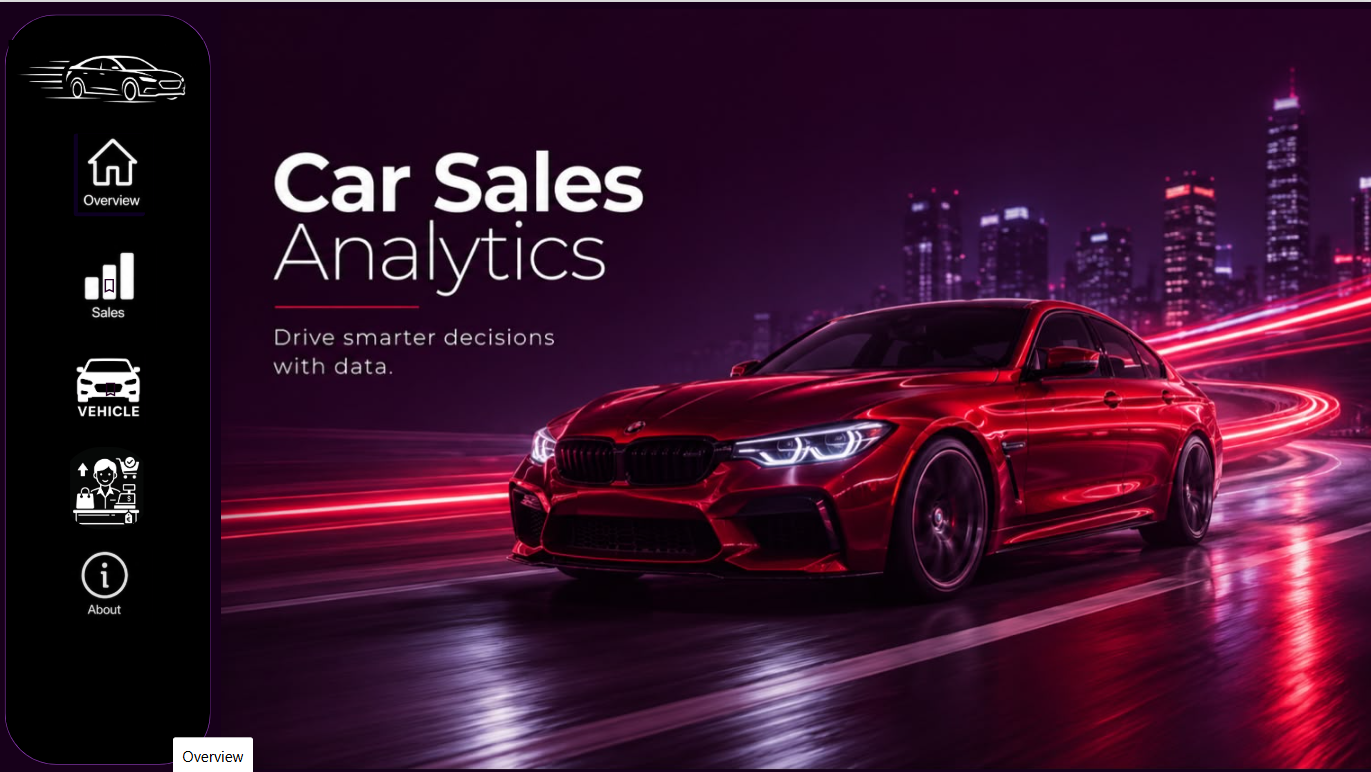

The dashboard page shown, as its layout file describes it:
{"tool":"powerbi","page":{"name":"Overview","canvas":[1920,1080],"ordinal":0},"visuals":[{"type":"image","box":[314,0,1607,1080.4],"z":0},{"type":"actionButton","box":[94.1,347.5,110.4,112.2],"z":1000},{"type":"shape","box":[12.8,17,287.2,1046.8],"z":2000},{"type":"actionButton","box":[108,184,100,116],"z":3000},{"type":"actionButton","box":[104,182,112.7,112.7],"z":4000},{"type":"image","box":[18,40,272,126],"z":5000},{"type":"image","box":[104,184,126,110],"z":7000},{"type":"image","box":[94,336,130,124],"z":8000},{"type":"actionButton","box":[108.3,331.2,100,128.3],"z":9000},{"type":"actionButton","box":[104.2,187.5,112.7,112.7],"z":10000},{"type":"image","box":[72.3,491.5,170.2,97.9],"z":11000},{"type":"actionButton","box":[110.6,476.6,100,128.3],"z":12000},{"type":"image","box":[82.7,763.5,148,104],"z":12001},{"type":"image","box":[88.5,621.2,130.8,115.4],"z":12002},{"type":"actionButton","box":[94.2,763.5,112.7,112.7],"z":12003},{"type":"actionButton","box":[94.2,623.1,113.5,113.5],"z":12004}]}

Visuals, with their boxes in screenshot pixels (x1, y1, x2, y2), scaled from the page's 1920x1080 canvas onto the 1371x772 screenshot:
image: [224, 0, 1370, 771]
actionButton: [67, 248, 146, 329]
shape: [9, 12, 214, 760]
actionButton: [77, 132, 149, 214]
actionButton: [74, 130, 155, 211]
image: [13, 29, 207, 119]
image: [74, 132, 164, 210]
image: [67, 240, 160, 329]
actionButton: [77, 237, 149, 328]
actionButton: [74, 134, 155, 215]
image: [52, 351, 173, 421]
actionButton: [79, 341, 150, 432]
image: [59, 546, 165, 620]
image: [63, 444, 157, 527]
actionButton: [67, 546, 148, 626]
actionButton: [67, 445, 148, 527]
